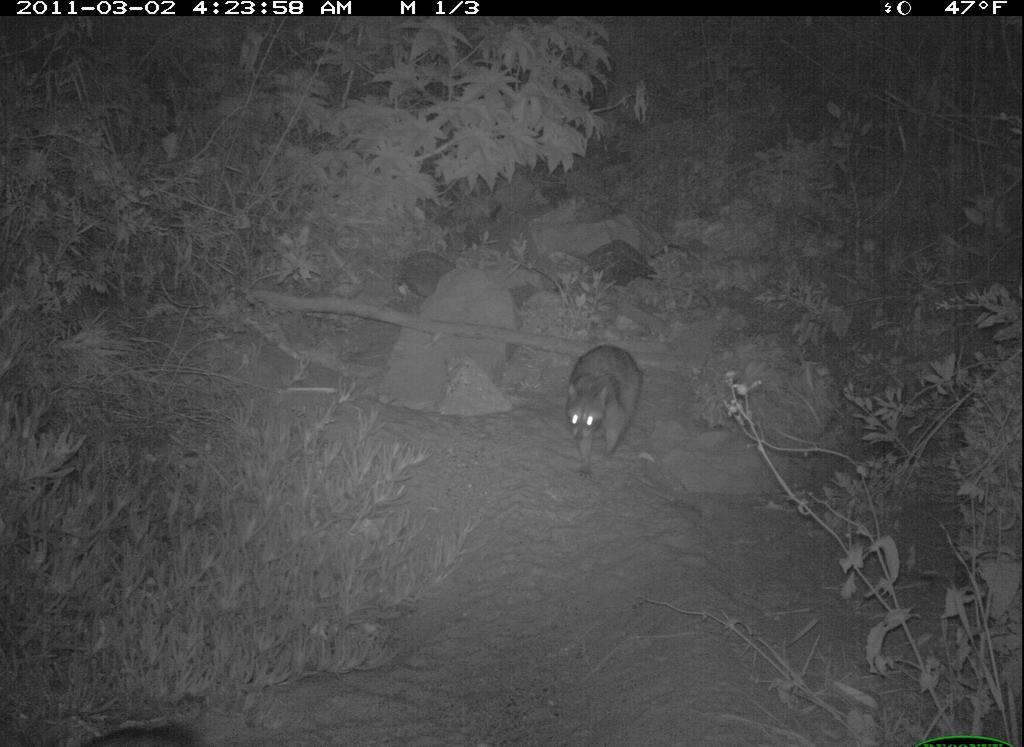raccoon: (561, 347, 648, 469)
